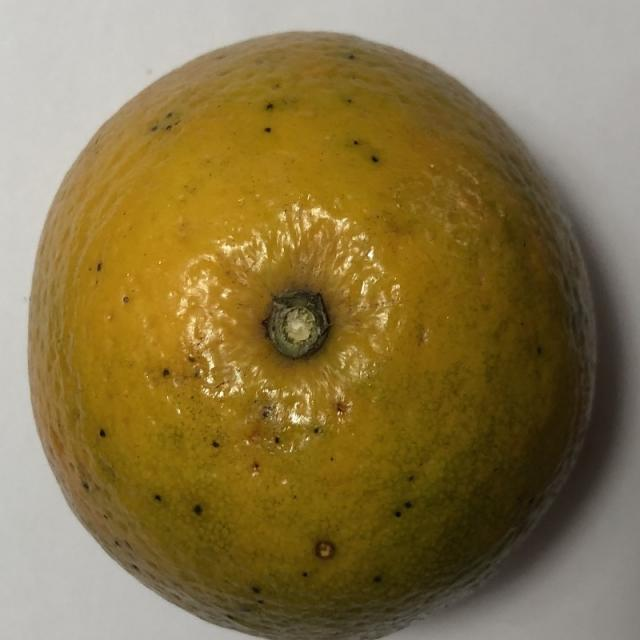blackspot: (20, 14, 621, 634)
